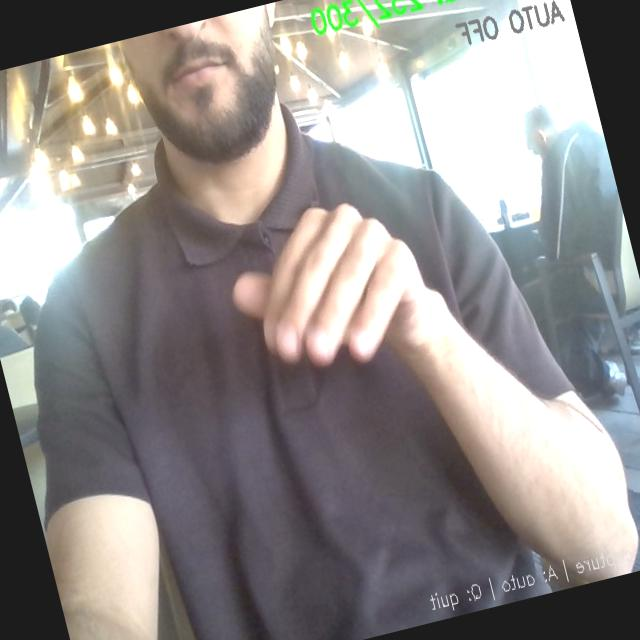Hand: (233, 205, 432, 364)
